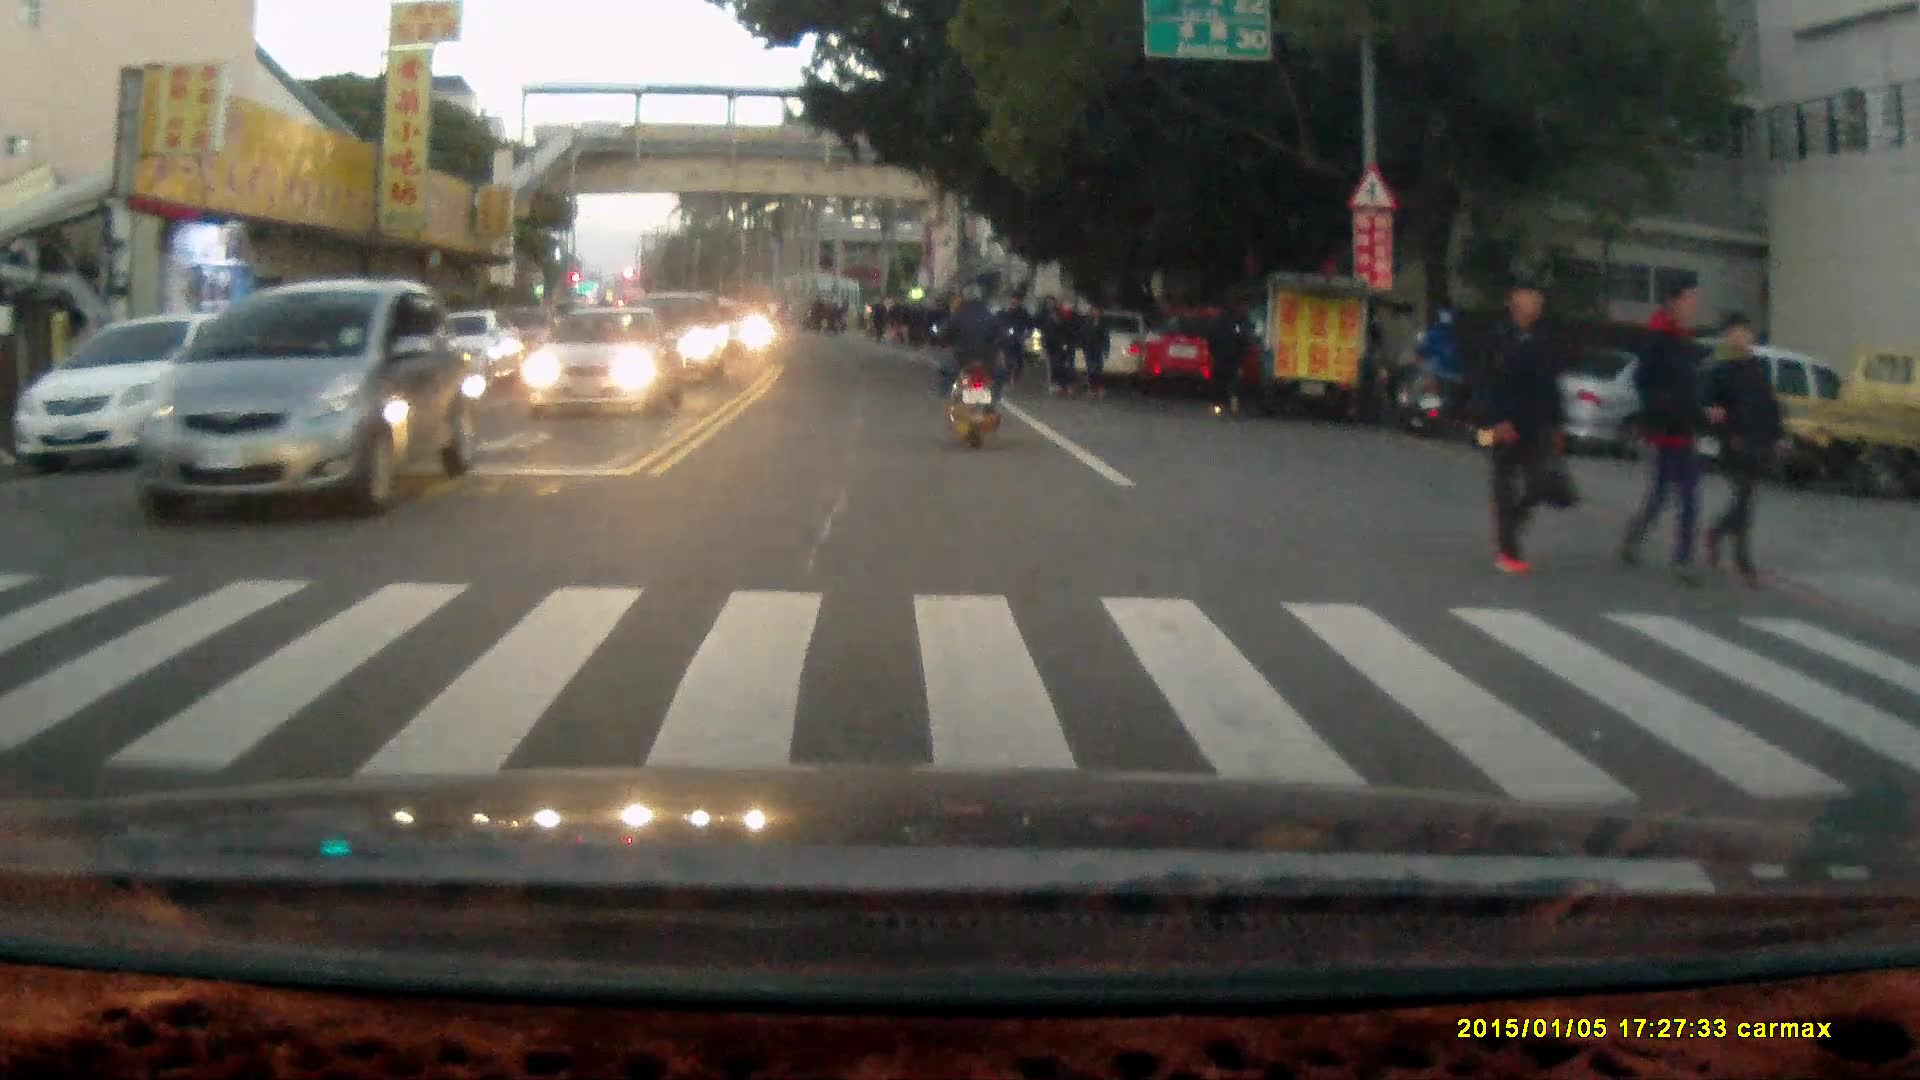pedestrian: (1469, 274, 1574, 581), (1616, 271, 1716, 579), (1704, 306, 1786, 588), (1197, 292, 1248, 421), (996, 286, 1030, 400), (1036, 290, 1068, 397), (1078, 299, 1112, 395)
rider: (930, 280, 1013, 448)
vehicle: (128, 274, 479, 525), (1521, 335, 1784, 466), (1716, 345, 1920, 503), (519, 306, 680, 420), (1135, 306, 1273, 401)
